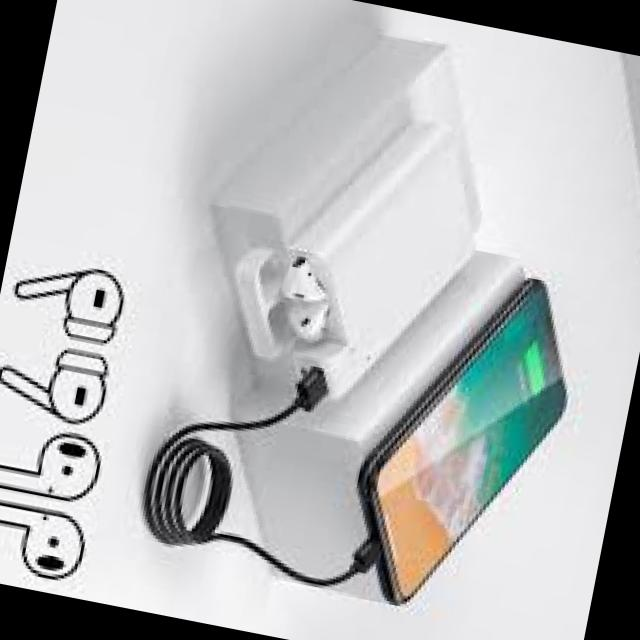power_bank: (264, 115, 492, 432)
